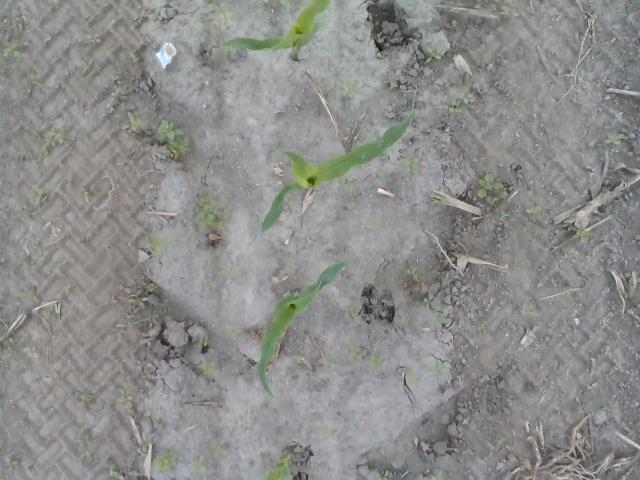Maize: (260, 110, 414, 235), (258, 262, 352, 398), (220, 0, 333, 63), (264, 454, 294, 480)
Weeds: (158, 118, 194, 162), (197, 190, 231, 234), (0, 17, 32, 60), (476, 172, 509, 206), (144, 230, 178, 258), (207, 7, 240, 29), (398, 263, 424, 289), (152, 450, 178, 476), (40, 128, 66, 154), (76, 432, 96, 464), (215, 260, 238, 284), (24, 70, 47, 93), (324, 350, 350, 368), (126, 111, 144, 137), (208, 439, 233, 457), (115, 389, 137, 409), (1, 452, 25, 470), (332, 80, 358, 96), (110, 70, 130, 90), (0, 334, 15, 360), (426, 360, 450, 376), (520, 301, 538, 322), (401, 159, 423, 176), (432, 466, 458, 480), (30, 184, 49, 202), (525, 206, 545, 223), (348, 344, 368, 361), (190, 457, 208, 475), (576, 224, 592, 244), (222, 327, 250, 338), (366, 214, 384, 231), (425, 47, 444, 63), (413, 296, 432, 312), (438, 100, 461, 113), (198, 360, 216, 376), (106, 465, 125, 480), (342, 305, 358, 322), (432, 310, 448, 327), (15, 416, 32, 432), (319, 425, 337, 440), (30, 438, 46, 454), (368, 355, 385, 370), (79, 392, 97, 406), (605, 132, 626, 144), (22, 344, 40, 358), (85, 31, 104, 44), (128, 294, 150, 305), (128, 50, 144, 64), (462, 88, 474, 105), (0, 238, 17, 250), (255, 0, 267, 17), (34, 251, 48, 265), (144, 282, 160, 294), (110, 90, 122, 106), (78, 182, 90, 198), (50, 372, 66, 384), (375, 470, 394, 480), (502, 7, 521, 17), (515, 46, 525, 65), (405, 374, 422, 384), (507, 399, 524, 409), (431, 196, 448, 206), (128, 318, 145, 328), (544, 378, 558, 390), (46, 306, 57, 321), (323, 78, 337, 89), (382, 55, 396, 66), (80, 62, 94, 73), (293, 358, 305, 370), (144, 414, 158, 424), (479, 26, 496, 34), (46, 0, 62, 8), (0, 127, 7, 145), (495, 434, 507, 444), (198, 335, 208, 347), (206, 278, 218, 288), (344, 182, 354, 194), (246, 414, 258, 424), (385, 79, 398, 88), (582, 152, 592, 162), (319, 18, 329, 28), (30, 292, 41, 301), (479, 326, 487, 338), (500, 210, 510, 219), (430, 270, 440, 279), (328, 248, 337, 258), (271, 142, 280, 152), (278, 0, 290, 7), (402, 312, 412, 320), (190, 346, 200, 354), (320, 188, 336, 193), (374, 171, 386, 177), (288, 264, 296, 272), (144, 440, 150, 448)
